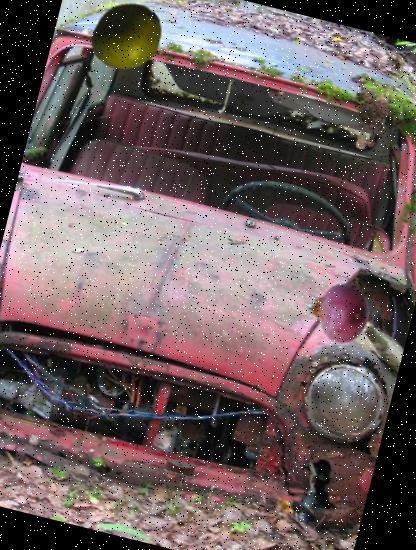Onion: (288, 262, 384, 359)
Pomelo: (82, 0, 170, 81)
